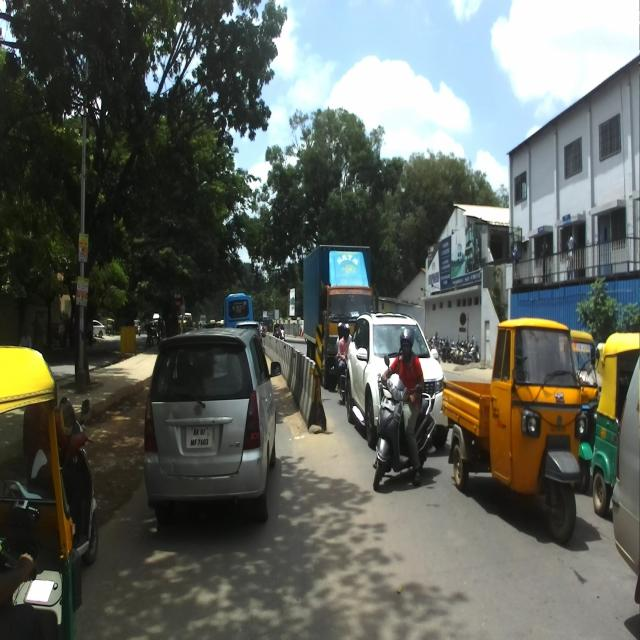Car_Mahindra: (344, 310, 449, 450)
Car_Toyota: (144, 325, 280, 532)
autorickshaw: (440, 316, 582, 544), (0, 344, 82, 639), (590, 332, 640, 516)
scooter: (372, 352, 436, 490), (59, 397, 99, 567)
